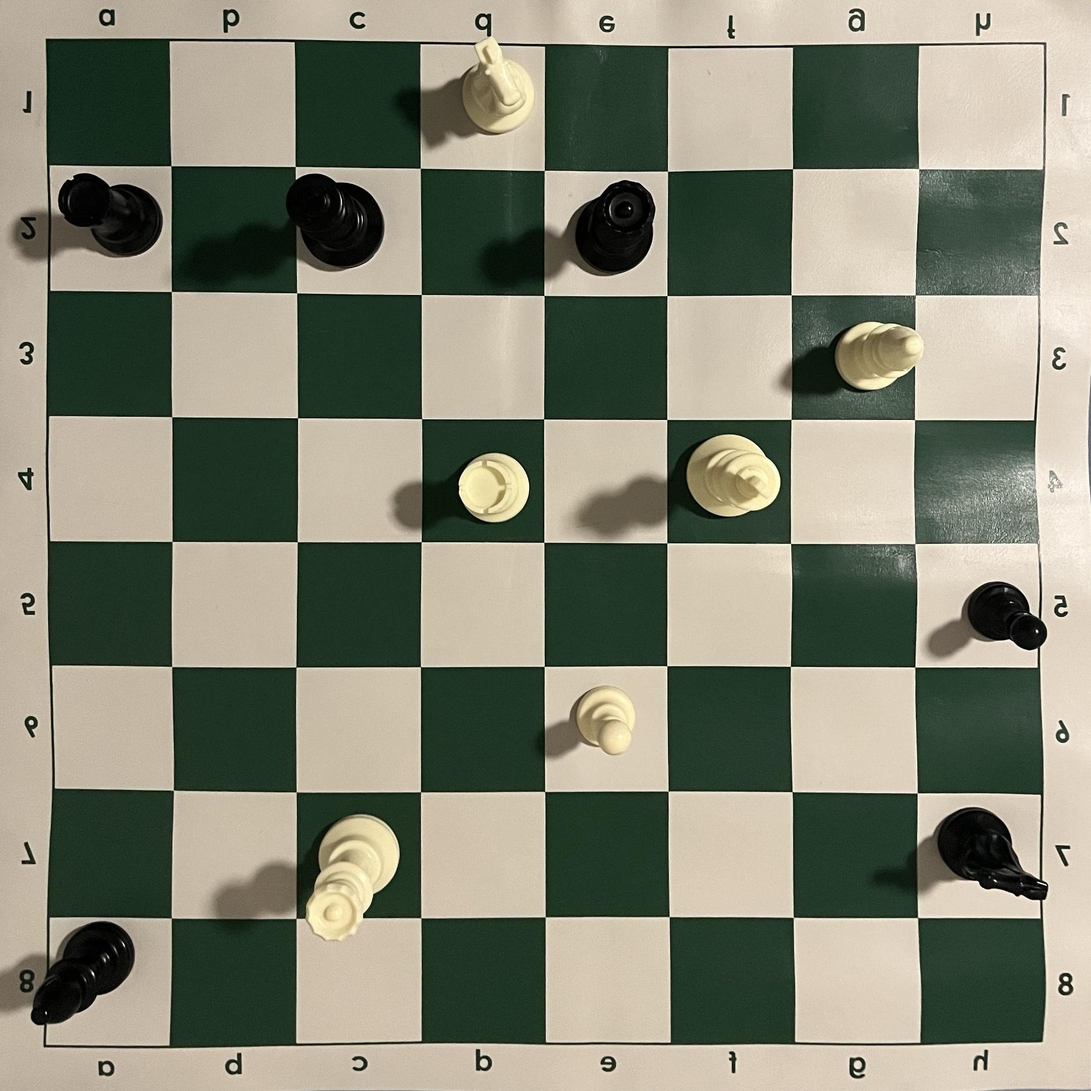black_bishop: (30, 921, 136, 1026)
black_king: (286, 173, 385, 269)
black_knight: (937, 806, 1048, 901)
black_pawn: (967, 581, 1048, 650)
black_queen: (575, 179, 656, 276)
black_rook: (57, 172, 163, 257)
white_bishop: (834, 321, 925, 392)
white_king: (685, 433, 783, 519)
white_knight: (460, 35, 536, 135)
white_pawn: (576, 685, 638, 756)
white_queen: (305, 814, 402, 942)
white_rook: (458, 452, 530, 523)
